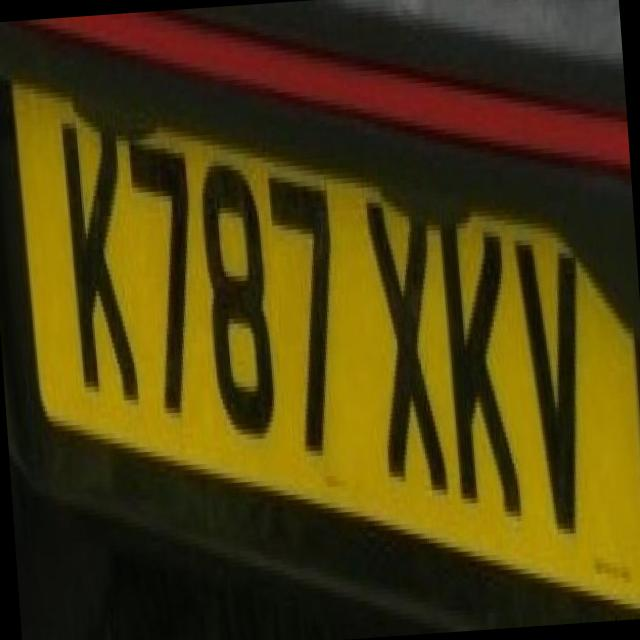7: (250, 146, 356, 458), (110, 114, 215, 420)
8: (183, 136, 284, 442)
K: (417, 187, 534, 526), (28, 87, 146, 405)
V: (496, 209, 609, 542)
X: (342, 177, 463, 516)
